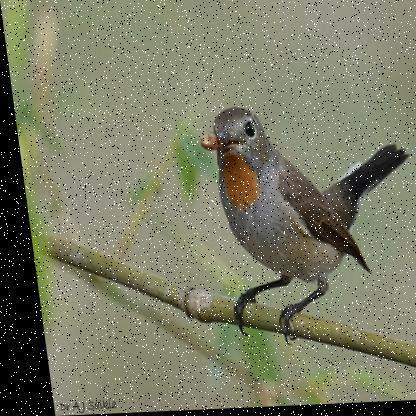Burung: (185, 68, 415, 353)
